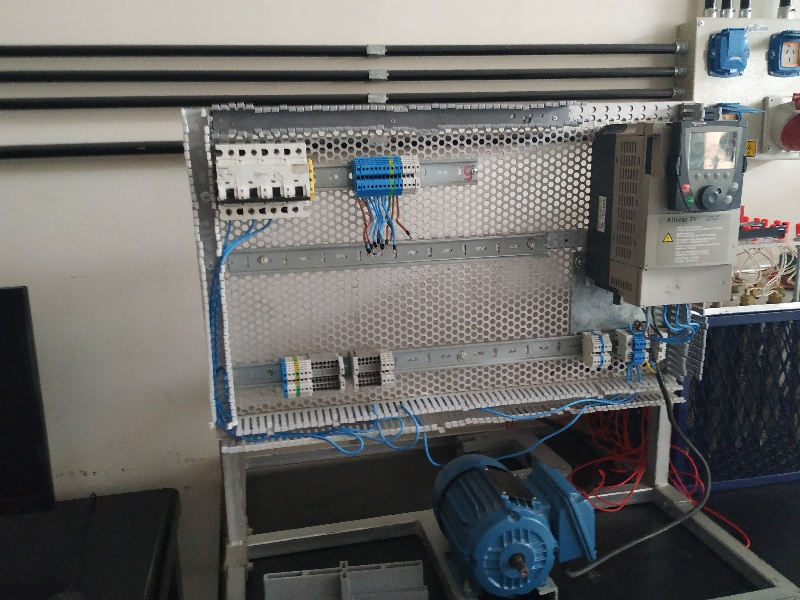Tablero 0: (199, 105, 738, 435)
